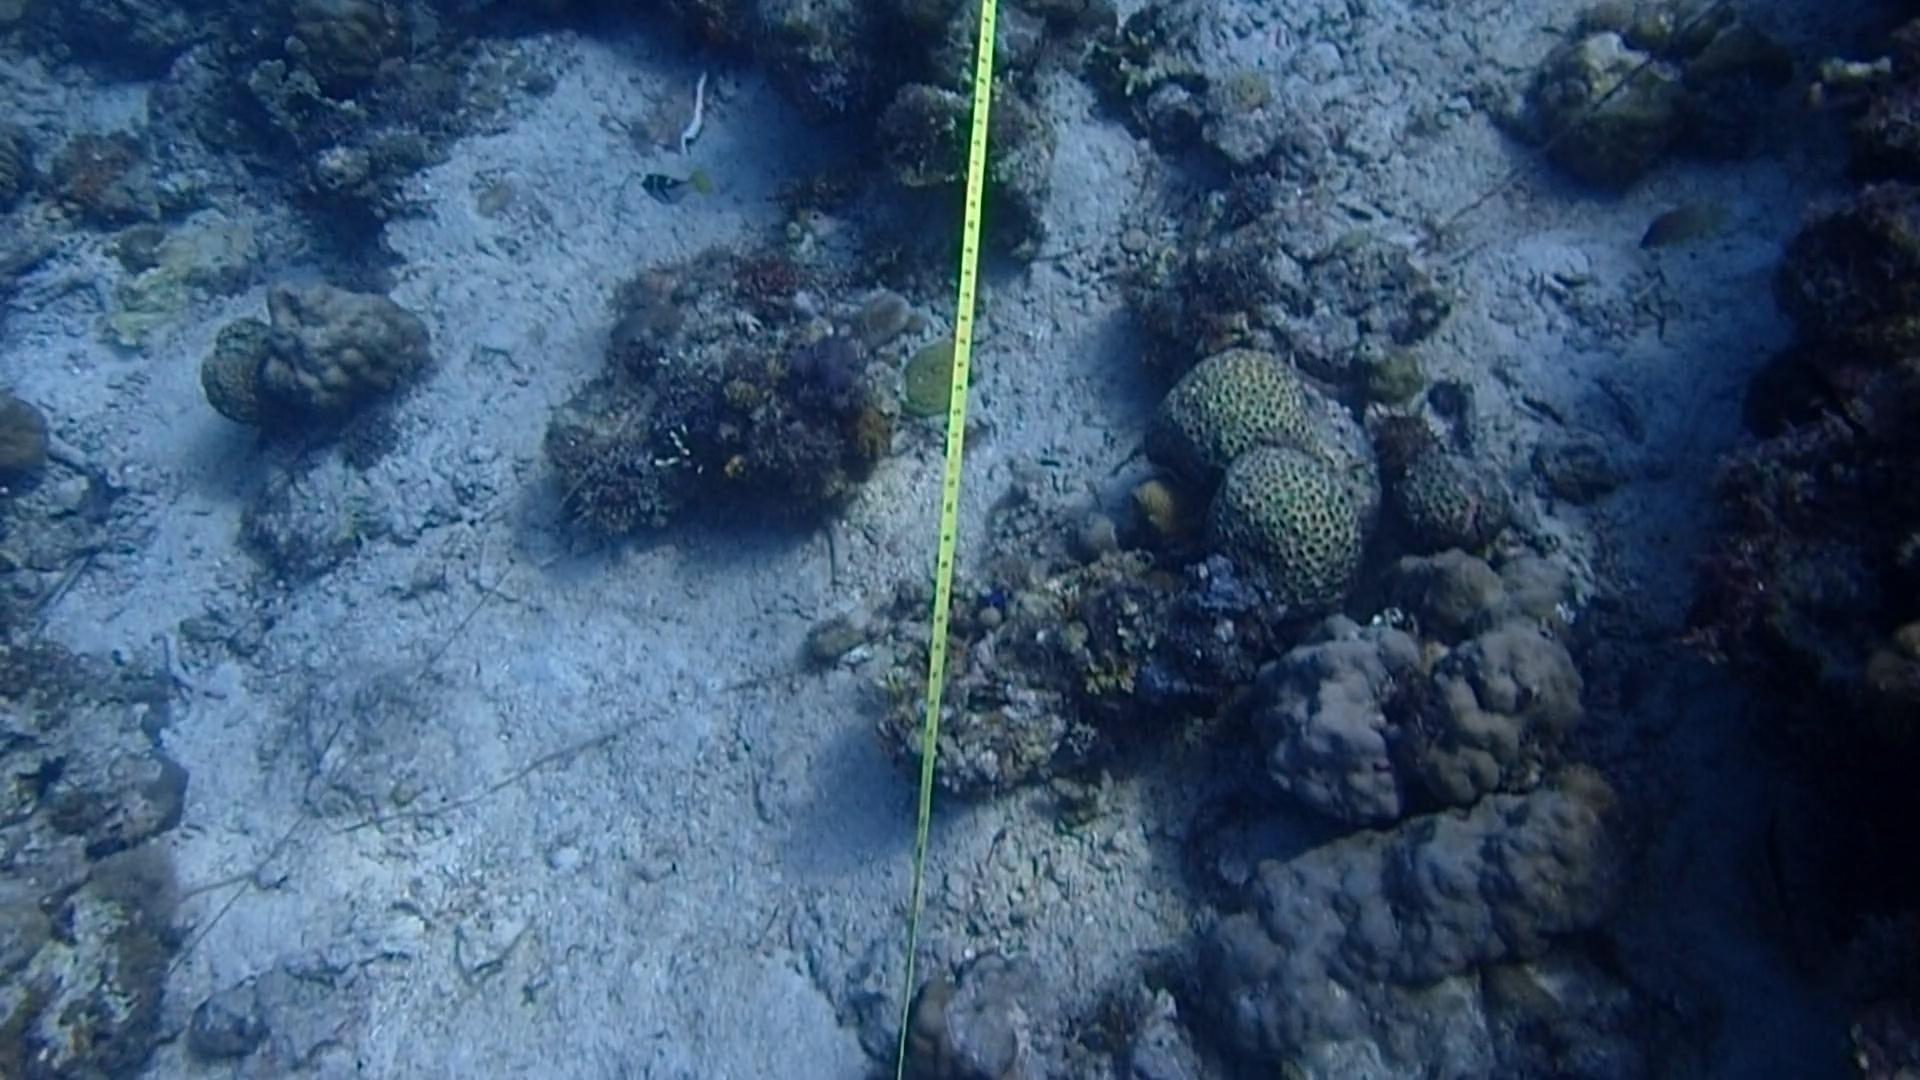Striped Fish: (625, 161, 717, 211)
